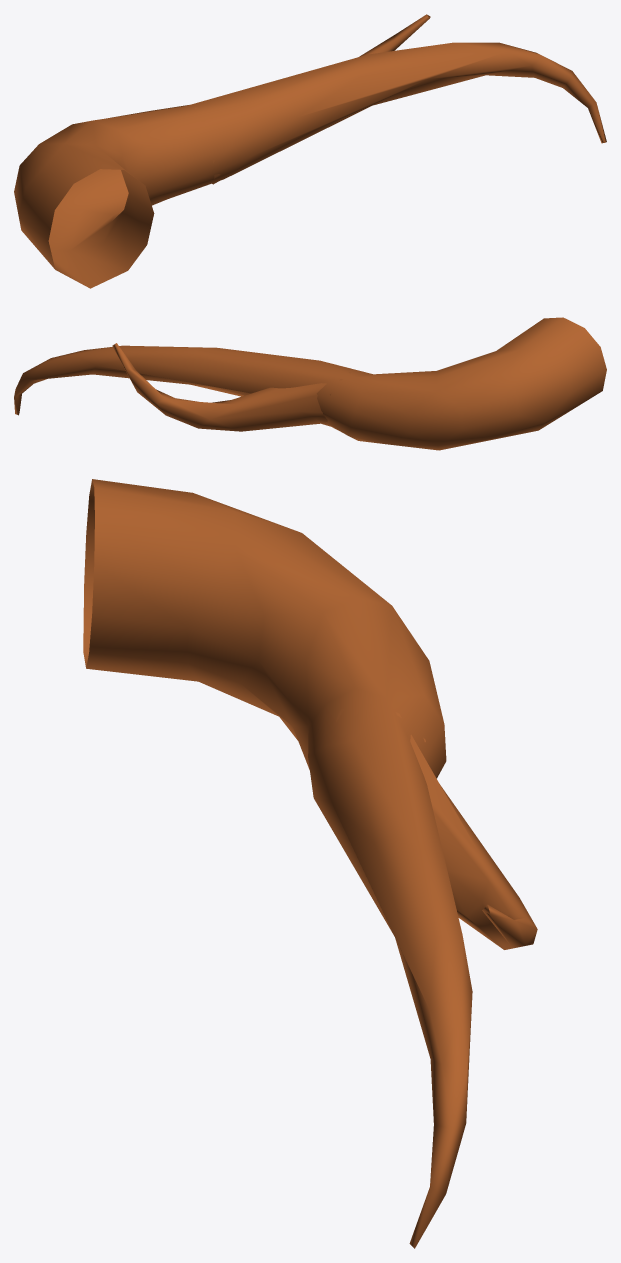
Rendered from arrayan_branch_3_LOD.fbx.
3 renders of one model, top to bottom at view 1: azimuth 30°, elevation 25°; view 2: azimuth 150°, elevation 25°; view 3: azimuth 270°, elevation 25°, orthographic. The views are drawn at different scales.
Visible parts, largest first — view 1: brunch_3_LOD0; view 2: brunch_3_LOD0; view 3: brunch_3_LOD0.
Part boxes in pixels (box(x1,y1,x2,y2)): brunch_3_LOD0: box(14, 14, 606, 288); brunch_3_LOD0: box(14, 317, 606, 450); brunch_3_LOD0: box(83, 479, 537, 1248).
Size of what is drawn, in the model's own units: 1624 by 464 by 627.
